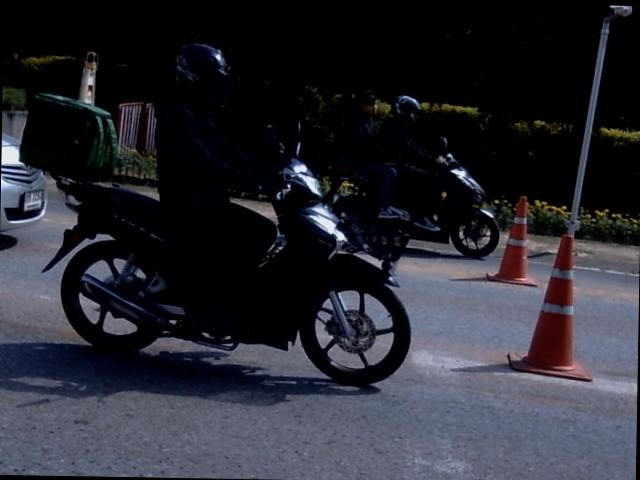helmet: (172, 39, 236, 112), (390, 92, 427, 127)
motor: (42, 156, 410, 385), (391, 152, 499, 257), (326, 159, 390, 257)
no-helmet: (356, 87, 377, 116)
person: (154, 43, 285, 333), (378, 95, 447, 231), (343, 88, 396, 216)
